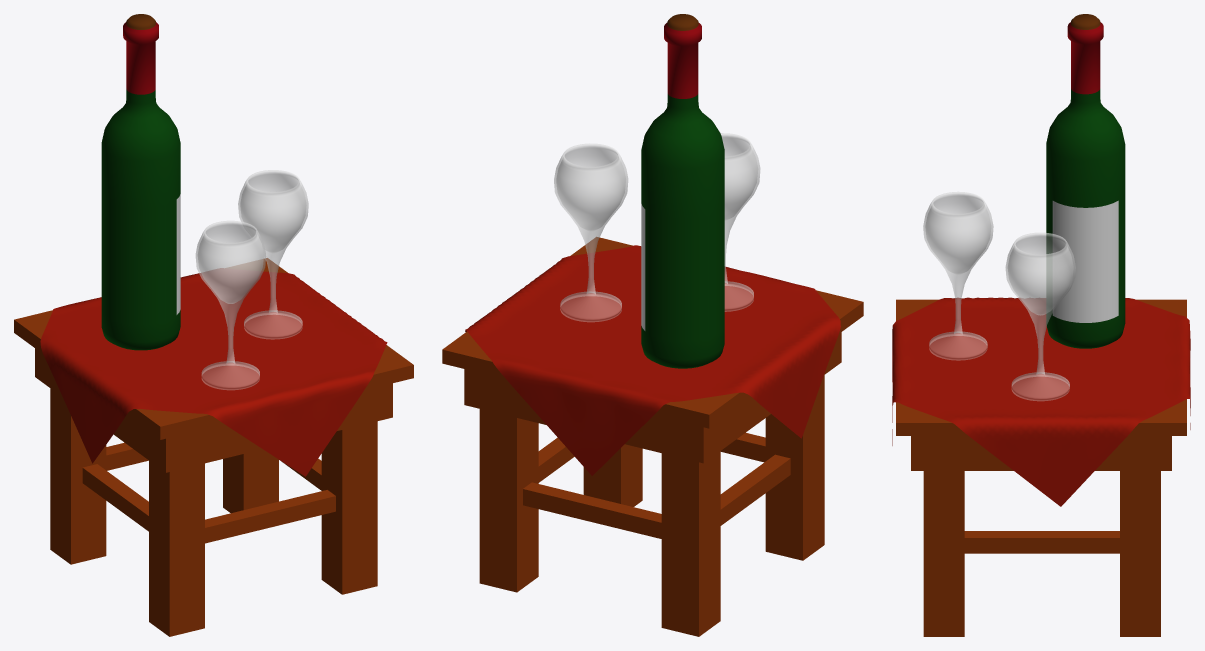
Rendered from wine__cups_table_-_lowpoly.glb.
3 renders of one model, left to right at view 1: azimuth 30°, elevation 25°; view 2: azimuth 150°, elevation 25°; view 3: azimuth 270°, elevation 25°, orthographic. The views are drawn at different scales.
Parts seen in each view (by area): view 1: Cube.003, Plane, Cylinder.001, Cylinder, Cylinder.002; view 2: Cube.003, Plane, Cylinder.001, Cylinder.002, Cylinder; view 3: Plane, Cube.003, Cylinder.001, Cylinder, Cylinder.002.
Boxes of the visible parts, x1,y1,x2,y2 form: Cube.003: [14, 258, 413, 636]; Plane: [40, 268, 387, 476]; Cylinder.001: [101, 14, 180, 350]; Cylinder: [195, 220, 266, 389]; Cylinder.002: [238, 170, 308, 339]; Cube.003: [442, 237, 863, 636]; Plane: [465, 245, 840, 475]; Cylinder.001: [641, 14, 724, 368]; Cylinder.002: [554, 143, 628, 321]; Cylinder: [721, 133, 760, 311]; Plane: [892, 297, 1190, 506]; Cube.003: [896, 299, 1186, 636]; Cylinder.001: [1046, 14, 1125, 348]; Cylinder: [923, 191, 993, 360]; Cylinder.002: [1005, 232, 1075, 400].
Size of the model in its own units: 8.66 by 17.04 by 8.5.
